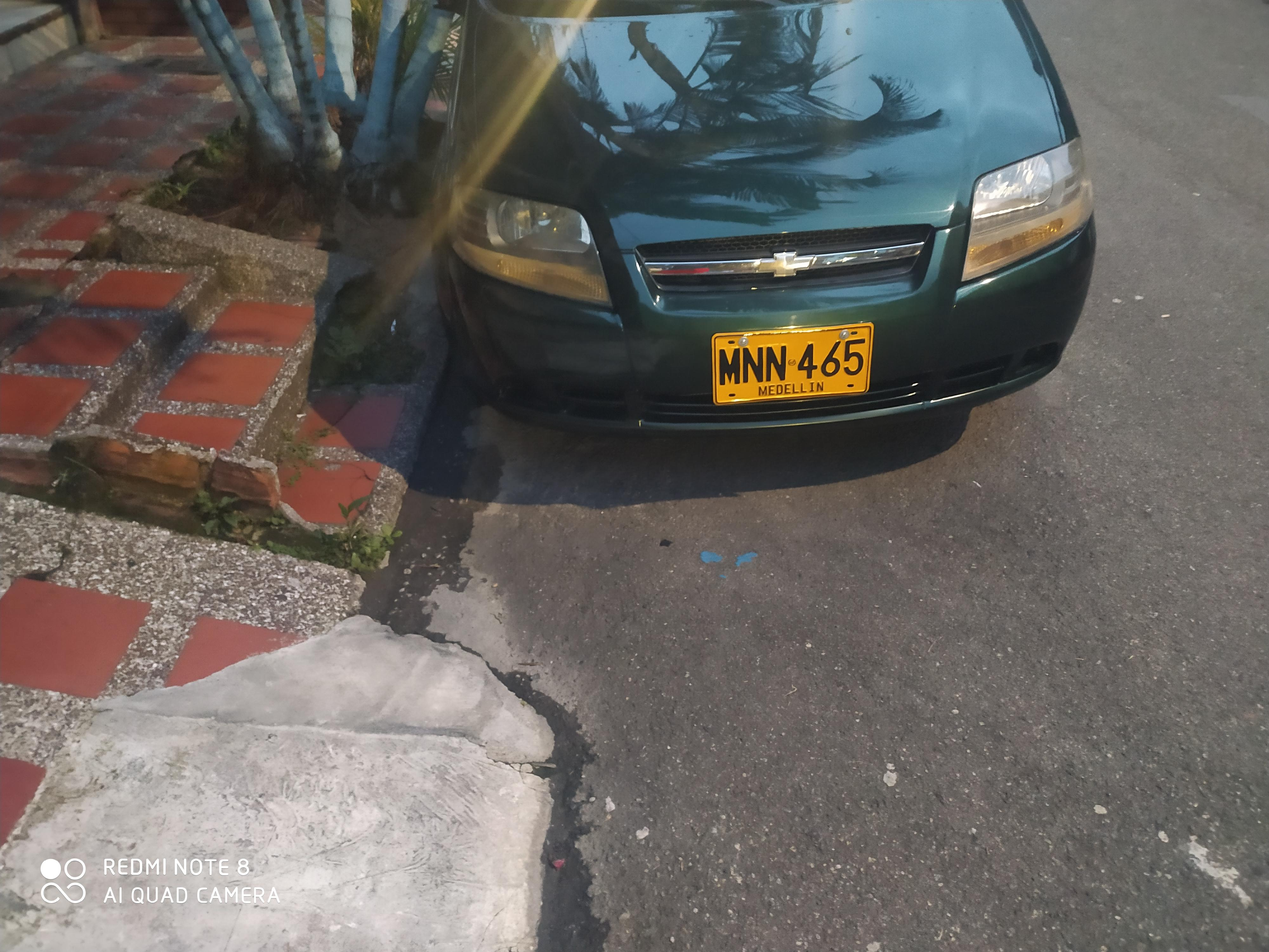placa: (699, 317, 878, 408)
